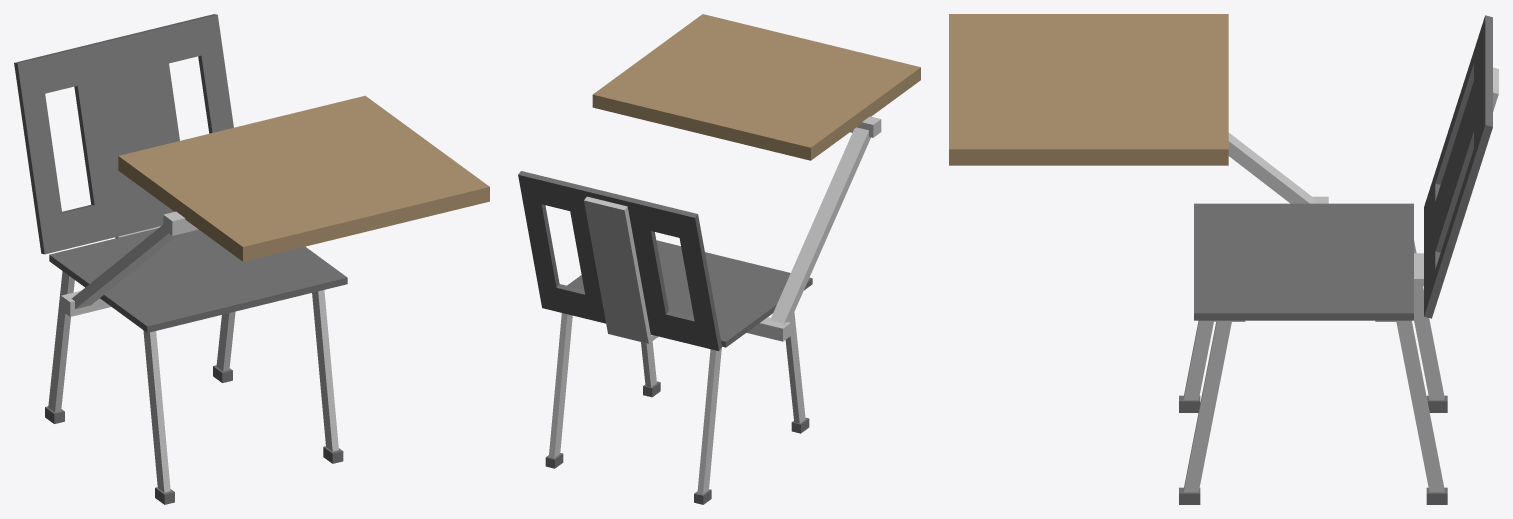
The model's file is chair3.fbx.
3 views of the same model, side by side, from view 1: azimuth 30°, elevation 25°; view 2: azimuth 150°, elevation 25°; view 3: azimuth 270°, elevation 25° (orthographic). The views are drawn at different scales.
Parts seen in each view (by area): view 1: chair1; view 2: chair1; view 3: chair1.
Part boxes in pixels (x1,y1,x2,y2): chair1: (14,14,489,504); chair1: (518,14,920,504); chair1: (949,14,1498,504).
Size of the model in its own units: 79.68 by 101 by 130.
